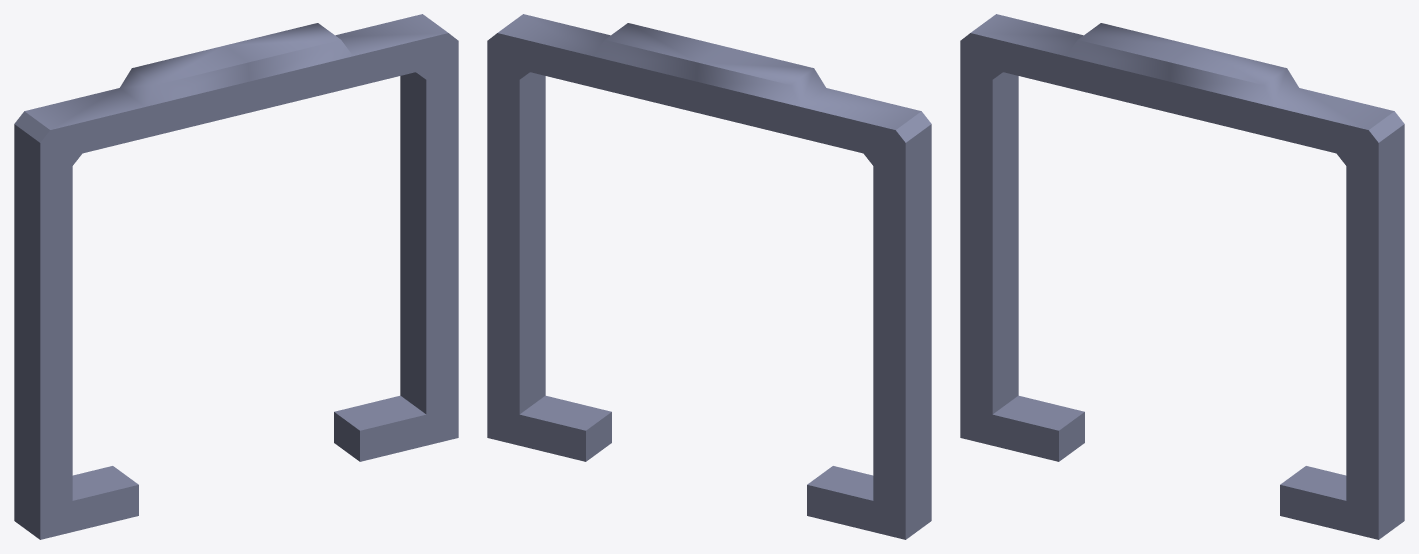
File: FBX_EncadrurePetitePorte.fbx
3 renders of one model, left to right at view 1: azimuth 30°, elevation 25°; view 2: azimuth 150°, elevation 25°; view 3: azimuth 330°, elevation 25°, orthographic.
Visible parts, largest first — view 1: Cube.183; view 2: Cube.183; view 3: Cube.183.
Boxes of the visible parts, x1,y1,x2,y2 form: Cube.183: (14, 14, 458, 539); Cube.183: (487, 14, 931, 539); Cube.183: (960, 14, 1404, 539).
Size of the model in its own units: 954 by 927 by 103.
